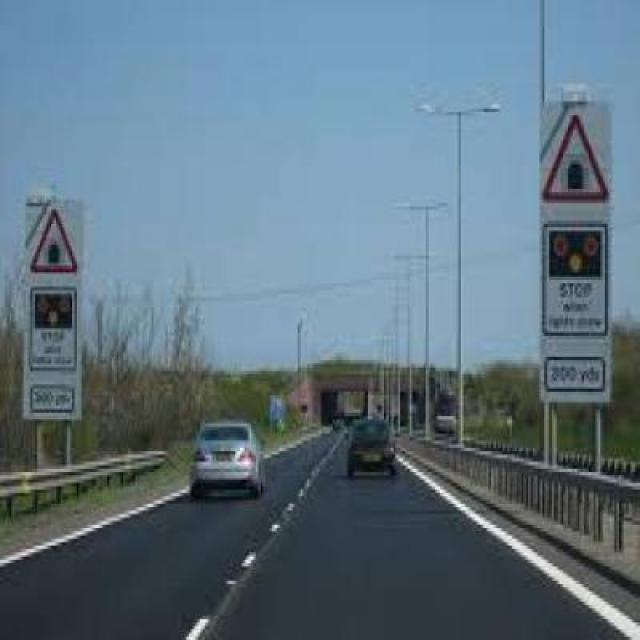clear-road: (221, 469, 619, 640), (0, 451, 303, 640)
